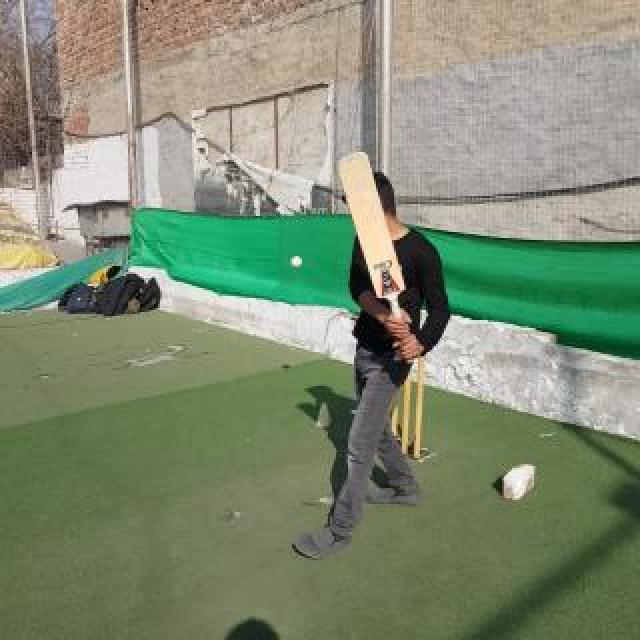ball: (291, 255, 303, 269)
bat: (337, 152, 415, 364)
